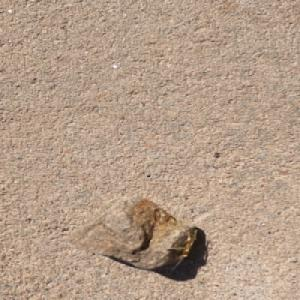Rock: (64, 196, 199, 271)
